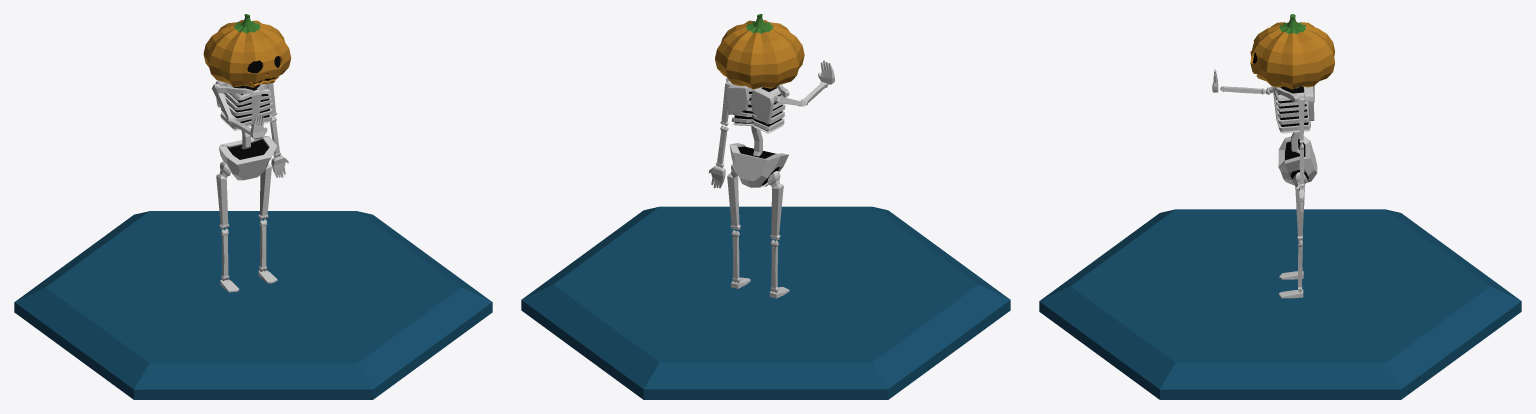
The model's file is Pumpkin_Figure_Scalone.fbx.
The picture shows the model from 3 angles, left to right: view 1: azimuth 30°, elevation 25°; view 2: azimuth 150°, elevation 25°; view 3: azimuth 270°, elevation 25°; orthographic projection. The views are drawn at different scales.
Visible parts, largest first — view 1: Right Foot; view 2: Right Foot; view 3: Right Foot.
Part boxes in pixels (x1,y1,x2,y2): Right Foot: (14,14,492,399); Right Foot: (521,14,1010,399); Right Foot: (1039,14,1521,399).
Size of the model in its own units: 483 by 378 by 558.
